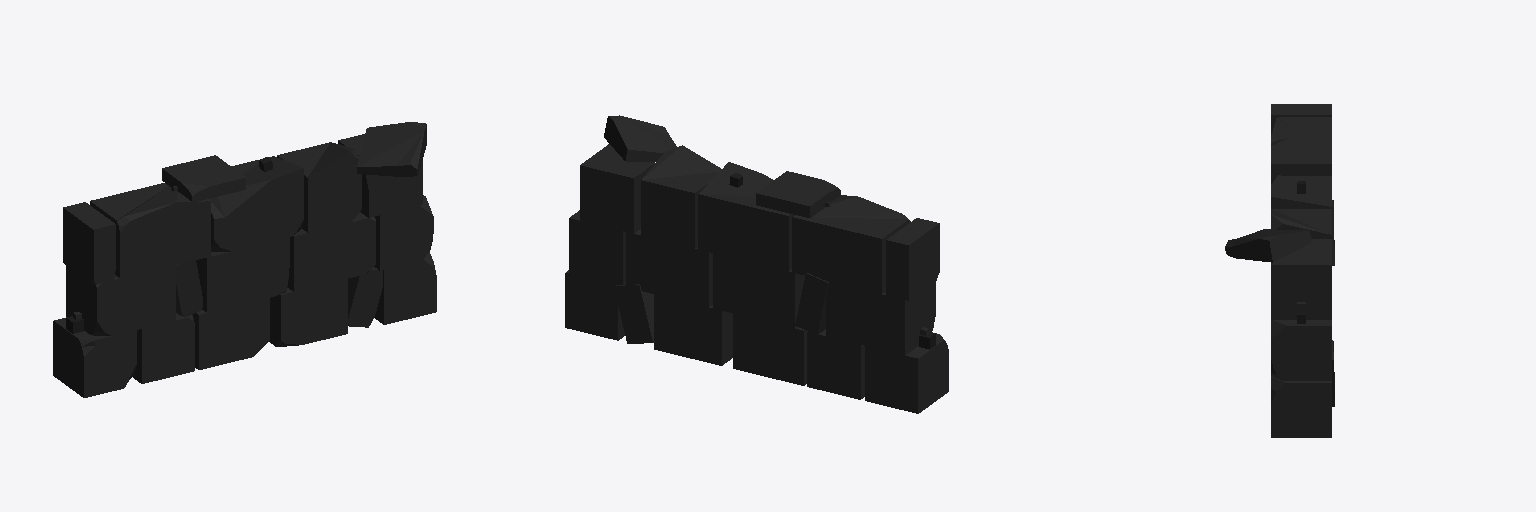
The model's file is Muret.obj.
3 renders of one model, left to right at view 1: azimuth 30°, elevation 25°; view 2: azimuth 150°, elevation 25°; view 3: azimuth 270°, elevation 25°, orthographic.
Visible parts, largest first — view 1: Cube.012, Cube.011, Cube.005, Cube.006, Cube.007, Cube.010, Cube.004, Cube.001, Cube.002, Cube.013, Cube.003, Cube.018 (+6 smaller); view 2: Cube.012, Cube.011, Cube.005, Cube.010, Cube.004, Cube.006, Cube.007, Cube.009, Cube.001, Cube.002, Cube.013, Cube.003 (+6 smaller); view 3: Cube.009, Cube.008, Cube, Cube.017, Cube.018, Cube.011, Cube.010, Cube.012, Cube.013.
Part boxes in pixels (bbox=[...]): Cube.012: bbox=[90, 183, 210, 278]; Cube.011: bbox=[208, 156, 303, 251]; Cube.005: bbox=[66, 265, 175, 335]; Cube.006: bbox=[196, 237, 289, 312]; Cube.007: bbox=[288, 212, 375, 291]; Cube.010: bbox=[277, 142, 361, 232]; Cube.004: bbox=[53, 317, 136, 397]; Cube.001: bbox=[269, 279, 347, 346]; Cube.002: bbox=[192, 298, 269, 369]; Cube.013: bbox=[63, 202, 115, 284]; Cube.003: bbox=[133, 313, 194, 383]; Cube.018: bbox=[357, 122, 426, 176]; Cube.012: bbox=[792, 195, 910, 293]; Cube.011: bbox=[698, 162, 793, 271]; Cube.005: bbox=[826, 281, 935, 355]; Cube.010: bbox=[641, 145, 721, 248]; Cube.004: bbox=[865, 332, 948, 413]; Cube.006: bbox=[713, 253, 804, 328]; Cube.007: bbox=[626, 229, 712, 306]; Cube.009: bbox=[580, 144, 654, 233]; Cube.001: bbox=[654, 294, 732, 365]; Cube.002: bbox=[733, 314, 806, 385]; Cube.013: bbox=[886, 218, 939, 300]; Cube.003: bbox=[807, 329, 864, 399]; Cube.009: bbox=[1271, 239, 1331, 319]; Cube.008: bbox=[1271, 320, 1331, 380]; Cube: bbox=[1271, 376, 1331, 437]; Cube.017: bbox=[1271, 137, 1331, 175]; Cube.018: bbox=[1225, 229, 1311, 262]; Cube.011: bbox=[1271, 175, 1331, 208]; Cube.010: bbox=[1271, 209, 1331, 238]; Cube.012: bbox=[1271, 117, 1331, 180]; Cube.013: bbox=[1271, 104, 1331, 121].
Size of the model in its own units: 13.33 by 7 by 3.6.